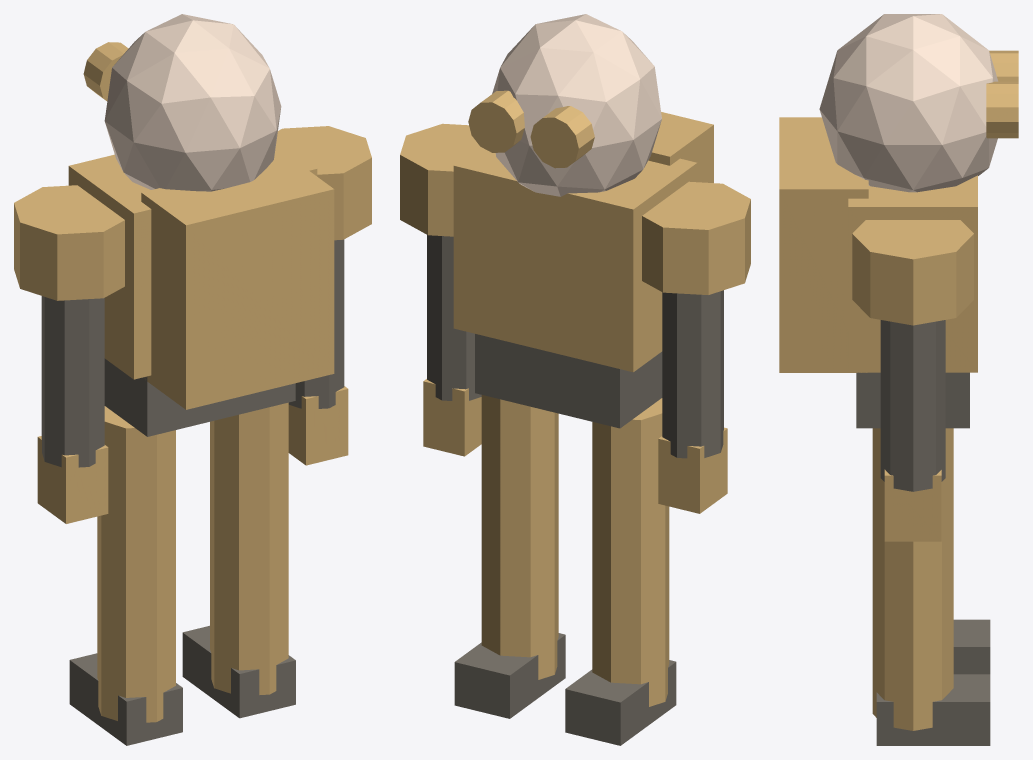
File: hero_tesla.glb
3 views of the same model, side by side, from view 1: azimuth 30°, elevation 25°; view 2: azimuth 150°, elevation 25°; view 3: azimuth 270°, elevation 25° (orthographic). The views are drawn at different scales.
Visible parts, largest first — view 1: Cube.006, Icosphere, Cylinder.004, Cylinder.005, Cylinder, Cylinder.002, Cube, Cylinder.001, Cube.001, Cube.004, Cube.005, Cube.002 (+3 smaller); view 2: Cube, Icosphere, Cylinder.004, Cylinder.005, Cube.001, Cylinder, Cylinder.002, Cylinder.001, Cylinder.003, Cube.005, Cube.004, Cube.002 (+4 smaller); view 3: Icosphere, Cube.006, Cylinder.005, Cylinder.001, Cylinder.003, Cube, Cube.005, Cube.003, Cube.001, Cube.004, Cylinder.007, Cylinder.006.
Part boxes in pixels (<box>): Cube.006: <box>141,156,334,409</box>; Icosphere: <box>104,14,281,191</box>; Cylinder.004: <box>97,406,175,722</box>; Cylinder.005: <box>210,402,288,694</box>; Cylinder: <box>14,185,124,300</box>; Cylinder.002: <box>41,296,104,467</box>; Cube: <box>68,139,317,379</box>; Cylinder.001: <box>277,126,371,240</box>; Cube.001: <box>104,358,295,436</box>; Cube.004: <box>69,653,182,745</box>; Cube.005: <box>182,625,295,718</box>; Cube.002: <box>37,436,108,523</box>; Cube: <box>453,146,697,372</box>; Icosphere: <box>492,14,661,196</box>; Cylinder.004: <box>592,398,669,706</box>; Cylinder.005: <box>481,395,558,679</box>; Cube.001: <box>475,334,662,428</box>; Cylinder: <box>642,181,750,294</box>; Cylinder.002: <box>662,290,723,458</box>; Cylinder.001: <box>400,123,479,236</box>; Cylinder.003: <box>427,235,481,400</box>; Cube.005: <box>454,633,565,718</box>; Cube.004: <box>565,660,676,745</box>; Cube.002: <box>658,427,727,513</box>; Icosphere: <box>819,14,998,192</box>; Cube.006: <box>779,117,868,372</box>; Cylinder.005: <box>872,428,953,730</box>; Cylinder.001: <box>852,220,973,325</box>; Cylinder.003: <box>880,320,945,491</box>; Cube: <box>848,175,977,372</box>; Cube.005: <box>876,674,990,745</box>; Cube.003: <box>884,469,941,541</box>; Cube.001: <box>856,372,969,428</box>; Cube.004: <box>953,619,990,674</box>; Cylinder.007: <box>986,81,1018,138</box>; Cylinder.006: <box>989,50,1018,81</box>.
Size of the model in its own units: 0.98 by 1.87 by 0.59.
